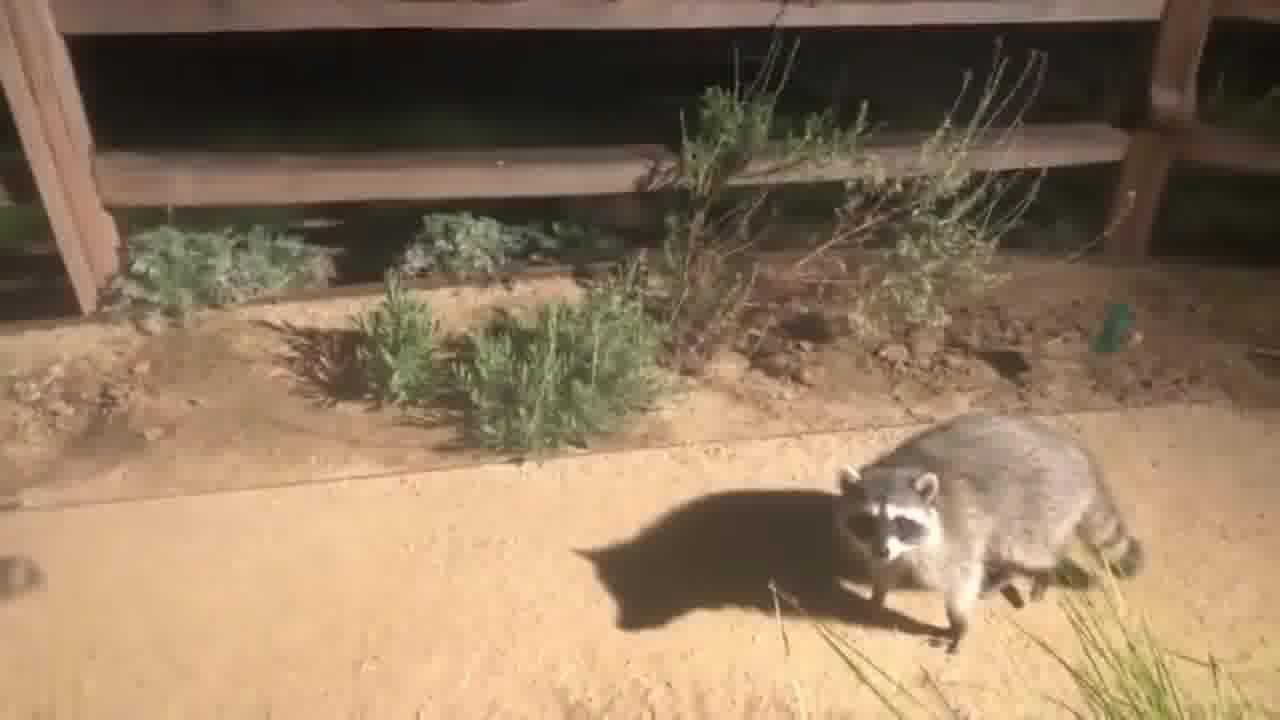raccoon: (810, 396, 1162, 658), (0, 546, 55, 615)
